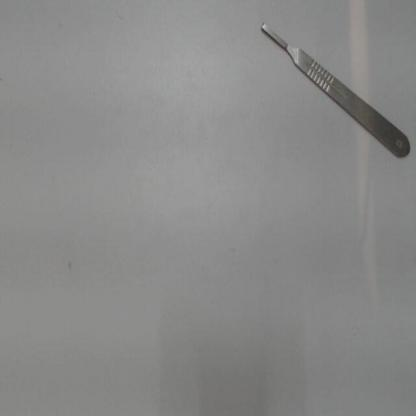No.4 BP Handle: (247, 7, 414, 170)
